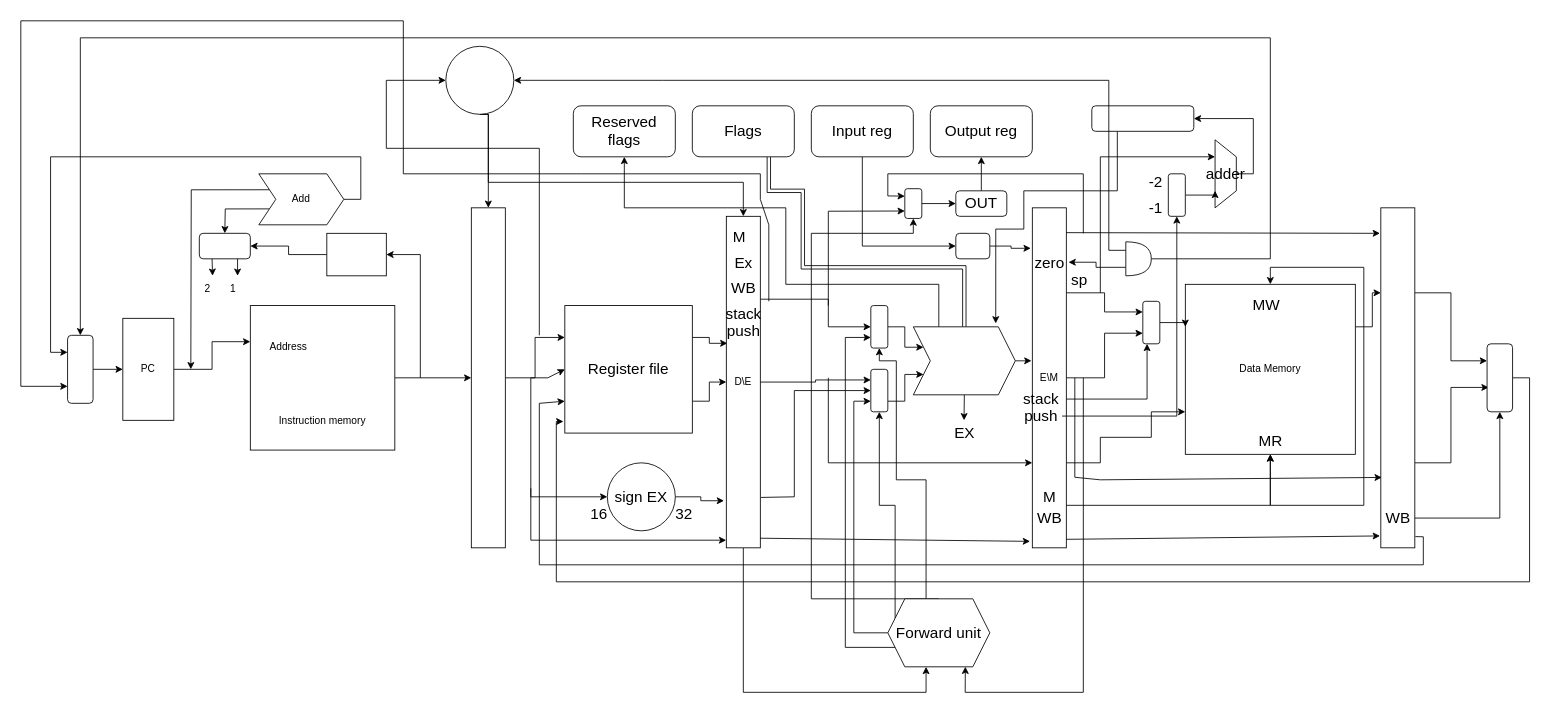
Some shapes in this 1551 by 714 pixel diagram are drawn without their labels. The shapes that lost their labels are listed below. From the top down, each one's box as (x1, y1, x2, y2) in pixels, then its label:
(445, 45, 514, 114): control
(1091, 105, 1194, 131): Stack Pointer
(326, 232, 386, 276): Size detector
(955, 232, 990, 259): IN
(470, 207, 505, 548): If\id
(912, 326, 1015, 395): ALU
(1380, 207, 1415, 548): M \ WB
